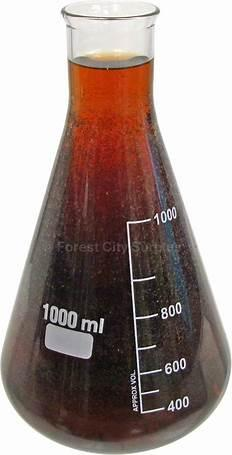Titrarion: (1, 26, 215, 452)
